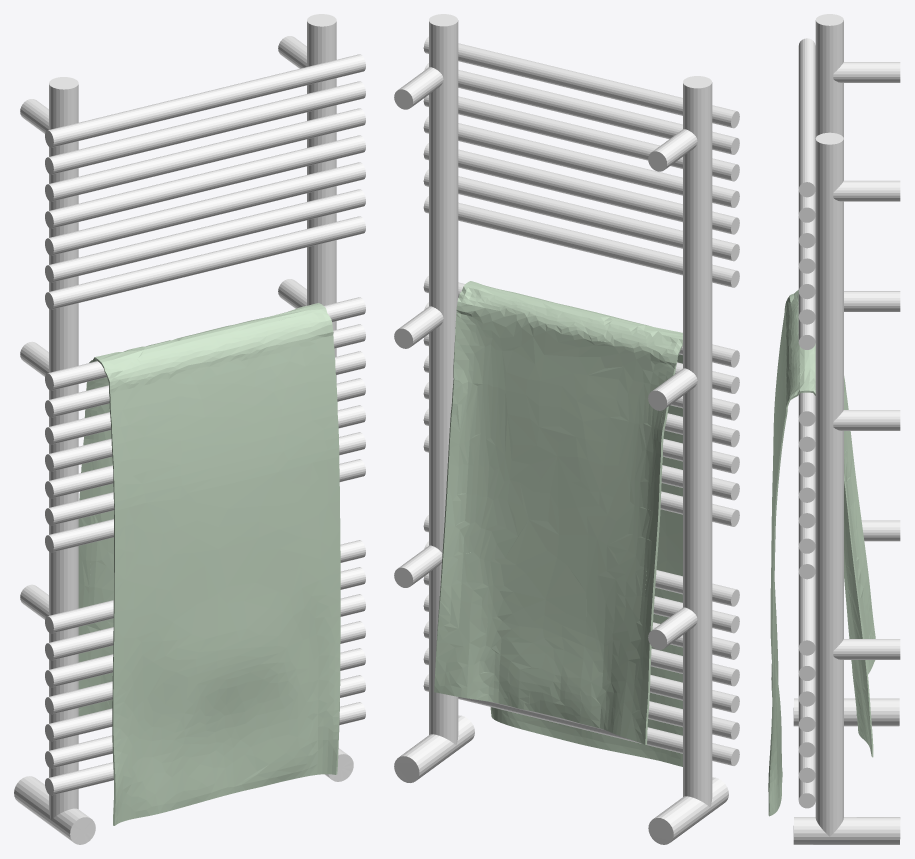
The model's file is by-bathroomradiator.glb.
The picture shows the model from 3 angles, left to right: view 1: azimuth 30°, elevation 25°; view 2: azimuth 150°, elevation 25°; view 3: azimuth 270°, elevation 25°; orthographic projection. The views are drawn at different scales.
Parts seen in each view (by area): view 1: polotence_polot, polotencesushitel, polotencesushitel.001; view 2: polotence_polot, polotencesushitel, polotencesushitel.001; view 3: polotencesushitel, polotence_polot, polotencesushitel.001.
Boxes of the visible parts, <box> form: polotence_polot: <box>78,303,340,825</box>; polotencesushitel: <box>14,21,365,842</box>; polotencesushitel.001: <box>45,14,353,844</box>; polotence_polot: <box>434,281,682,766</box>; polotencesushitel: <box>398,20,736,841</box>; polotencesushitel.001: <box>394,14,739,844</box>; polotencesushitel: <box>793,20,900,844</box>; polotence_polot: <box>768,290,875,816</box>; polotencesushitel.001: <box>793,14,843,837</box>.
Size of the model in its own units: 0.484 by 1.11 by 0.188.
